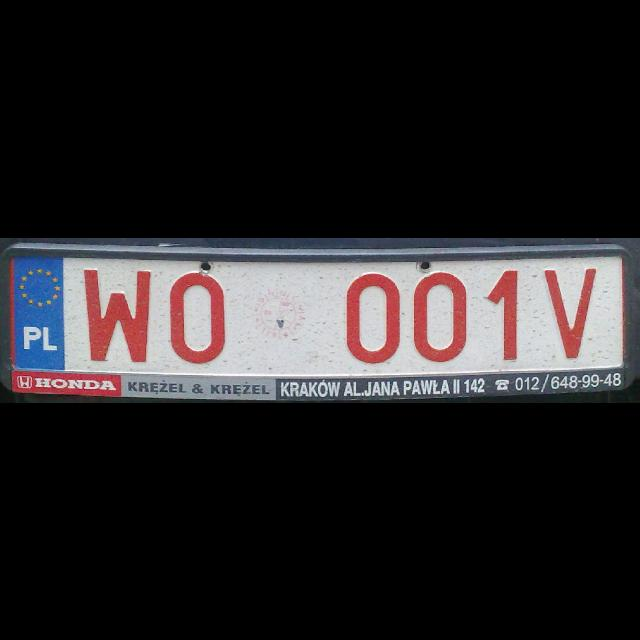pl_license_plate: (10, 255, 624, 371)
